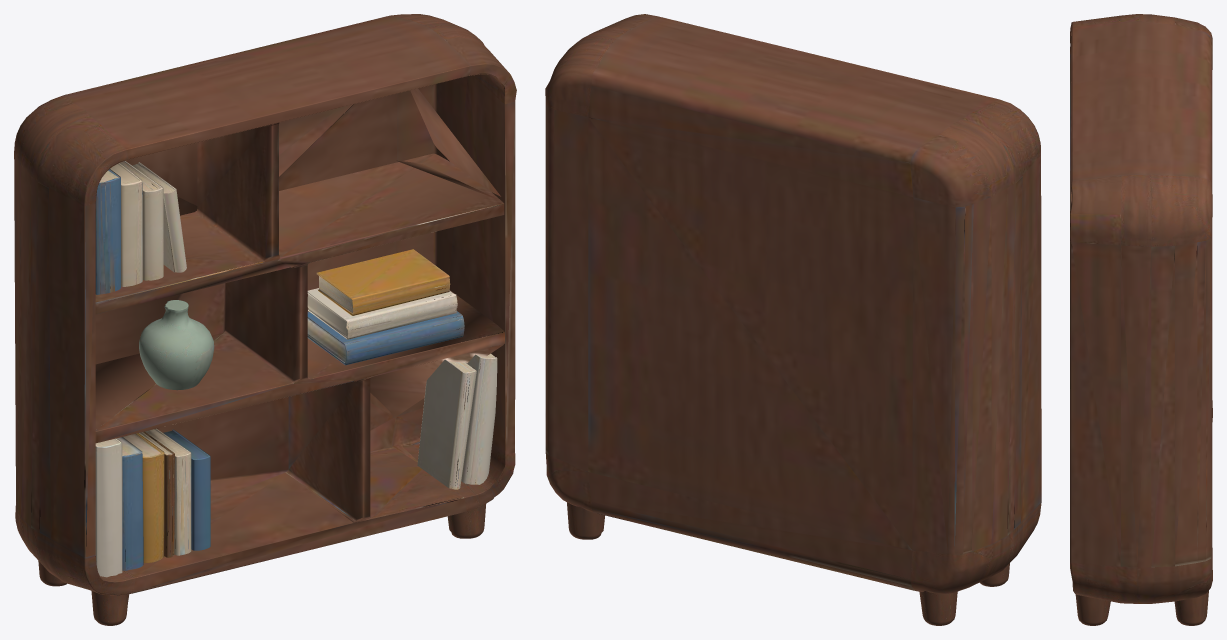
Rendered from gallery-bookcase-v2.glb.
The picture shows the model from 3 angles, left to right: view 1: azimuth 30°, elevation 25°; view 2: azimuth 150°, elevation 25°; view 3: azimuth 270°, elevation 25°; orthographic projection. The views are drawn at different scales.
Parts seen in each view (by area): view 1: geometry_0; view 2: geometry_0; view 3: geometry_0.
Boxes of the visible parts, x1=… form: geometry_0: x1=14, y1=14, x2=516, y2=625; geometry_0: x1=545, y1=14, x2=1041, y2=625; geometry_0: x1=1070, y1=14, x2=1212, y2=625.
Bounding box in the file's own units: 0.9277 × 0.9517 × 0.2778.
1 material, 1 textured.
